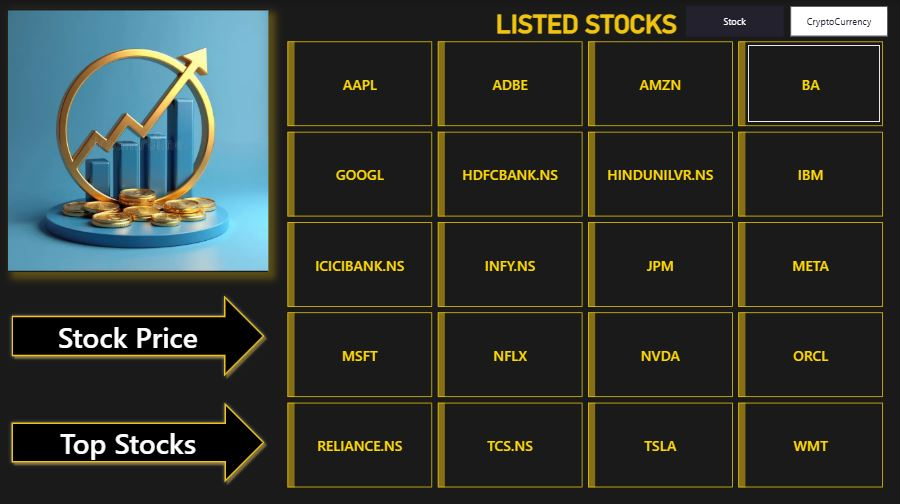

The dashboard page shown, as its layout file describes it:
{"tool":"powerbi","page":{"name":"Stock","canvas":[1280,720],"ordinal":0},"visuals":[{"type":"shape","title":"Stock Price","box":[14.2,413.9,368.5,124.7],"z":0},{"type":"image","box":[14.2,12.8,368.5,372.8],"z":1000},{"type":"shape","title":"Stock Price","box":[14.2,565.5,368.5,123.3],"z":2000},{"type":"advancedSlicerVisual","title":"LISTED STOCKS","fields":{"Values":["stocks_data.Ticker"]},"box":[405.4,12.8,857.5,687.4],"z":3000},{"type":"shape","box":[423.3,64.4,187.4,108.7],"z":4000},{"type":"shape","box":[423.3,573.5,187.4,108.7],"z":5000},{"type":"shape","box":[423.3,446.2,187.4,108.7],"z":6000},{"type":"shape","box":[423.3,317.5,187.4,108.7],"z":7000},{"type":"shape","box":[423.3,190.2,187.4,108.7],"z":8000},{"type":"shape","box":[640.7,64.4,187.4,108.7],"z":9000},{"type":"shape","box":[845.2,64.4,187.4,108.7],"z":10000},{"type":"shape","box":[1062.6,64.4,187.4,108.7],"z":11000},{"type":"shape","box":[640.7,573.5,187.4,108.7],"z":12000},{"type":"shape","box":[640.7,446.2,187.4,108.7],"z":13000},{"type":"shape","box":[630.7,317.5,187.4,108.7],"z":14000},{"type":"shape","box":[630.7,190.2,187.4,108.7],"z":15000},{"type":"shape","box":[845.2,193.1,187.4,108.7],"z":16000},{"type":"shape","box":[845.2,573.5,187.4,108.7],"z":17000},{"type":"shape","box":[1062.6,446.2,187.4,108.7],"z":18000},{"type":"shape","box":[845.2,446.2,187.4,108.7],"z":19000},{"type":"shape","box":[1062.6,573.5,187.4,108.7],"z":20000},{"type":"shape","box":[1061.2,190.2,187.4,108.7],"z":21000},{"type":"pageNavigator","box":[975.1,8.5,287.7,43.9],"z":22000}]}

Visuals, with their boxes in screenshot pixels (x1, y1, x2, y2), scaled from the page's 1280x720 canvas onto the 900x504 screenshot:
"Stock Price" shape: bbox=(10, 290, 269, 377)
image: bbox=(10, 9, 269, 270)
"Stock Price" shape: bbox=(10, 396, 269, 482)
"LISTED STOCKS" advancedSlicerVisual: bbox=(285, 9, 888, 490)
shape: bbox=(298, 45, 429, 121)
shape: bbox=(298, 401, 429, 478)
shape: bbox=(298, 312, 429, 388)
shape: bbox=(298, 222, 429, 298)
shape: bbox=(298, 133, 429, 209)
shape: bbox=(450, 45, 582, 121)
shape: bbox=(594, 45, 726, 121)
shape: bbox=(747, 45, 879, 121)
shape: bbox=(450, 401, 582, 478)
shape: bbox=(450, 312, 582, 388)
shape: bbox=(443, 222, 575, 298)
shape: bbox=(443, 133, 575, 209)
shape: bbox=(594, 135, 726, 211)
shape: bbox=(594, 401, 726, 478)
shape: bbox=(747, 312, 879, 388)
shape: bbox=(594, 312, 726, 388)
shape: bbox=(747, 401, 879, 478)
shape: bbox=(746, 133, 878, 209)
pageNavigator: bbox=(686, 6, 888, 37)
